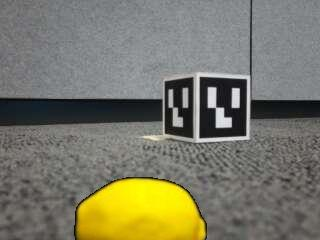lemon: (75, 179, 204, 240)
